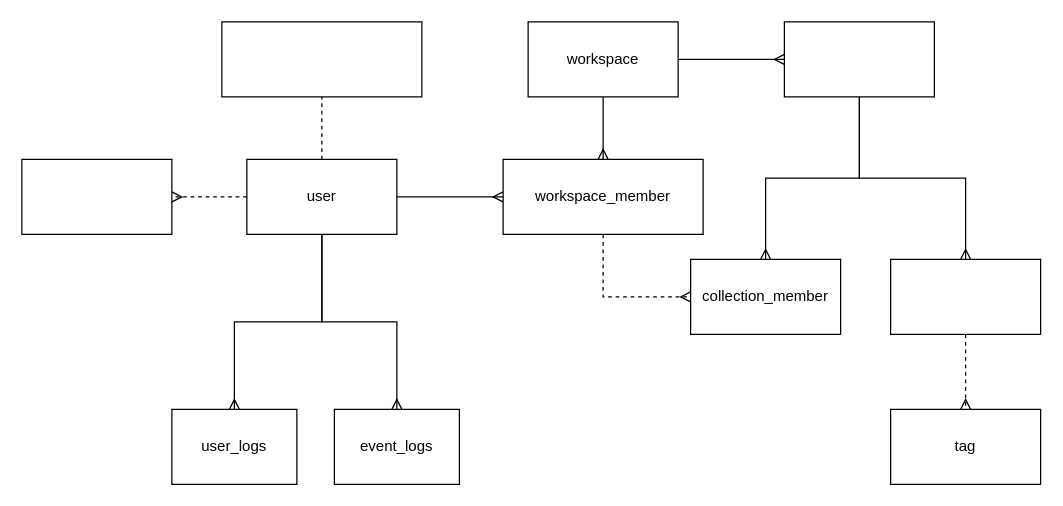
Image size: 1063x506. Some labels were removed from this diagram. The centre of each missing label's shape, as x and y in pixels:
collection: [858,59]
entry: [965,296]
mfa_account: [96,196]
mfa_backup_tokens: [321,59]
